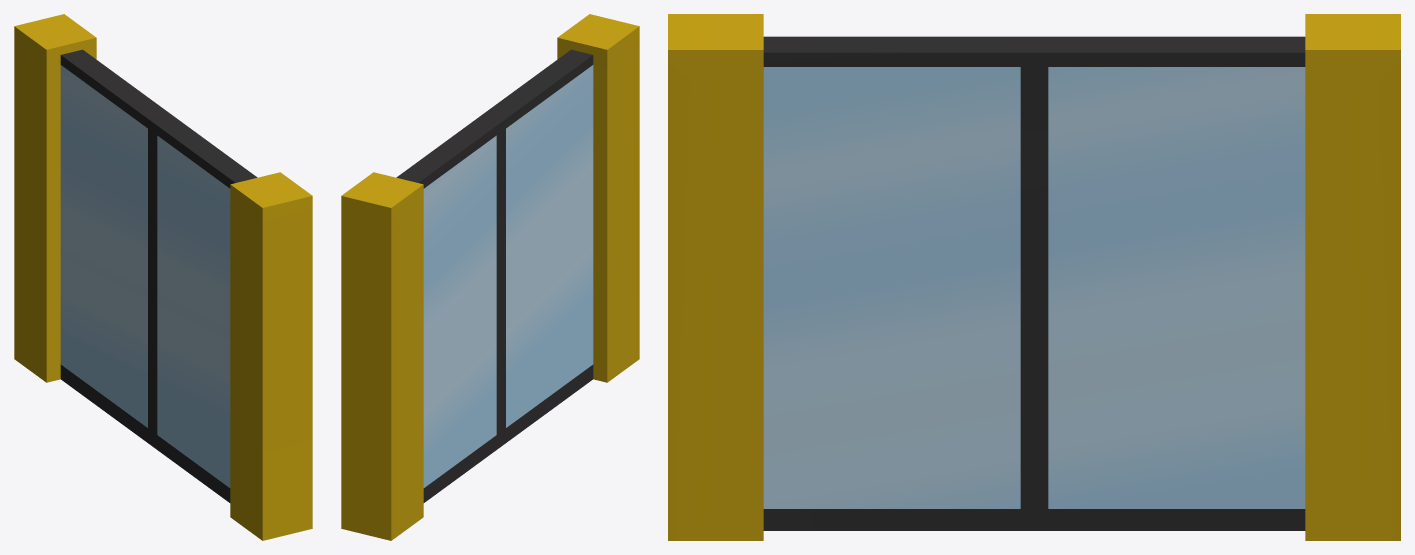
File: Cua3.fbx
3 views of the same model, side by side, from view 1: azimuth 30°, elevation 25°; view 2: azimuth 150°, elevation 25°; view 3: azimuth 270°, elevation 25° (orthographic). The views are drawn at different scales.
Visible parts, largest first — view 1: cua3, cua3_cot; view 2: cua3, cua3_cot; view 3: cua3, cua3_cot.
Part boxes in pixels (bbox=[...]): cua3: bbox=[60, 49, 257, 502]; cua3_cot: bbox=[14, 14, 312, 540]; cua3: bbox=[396, 49, 593, 502]; cua3_cot: bbox=[341, 14, 639, 540]; cua3: bbox=[763, 36, 1305, 530]; cua3_cot: bbox=[668, 14, 1400, 540].
Size of the model in its own units: 104 by 660 by 892.
Materials: 1 (1 with a texture image).
